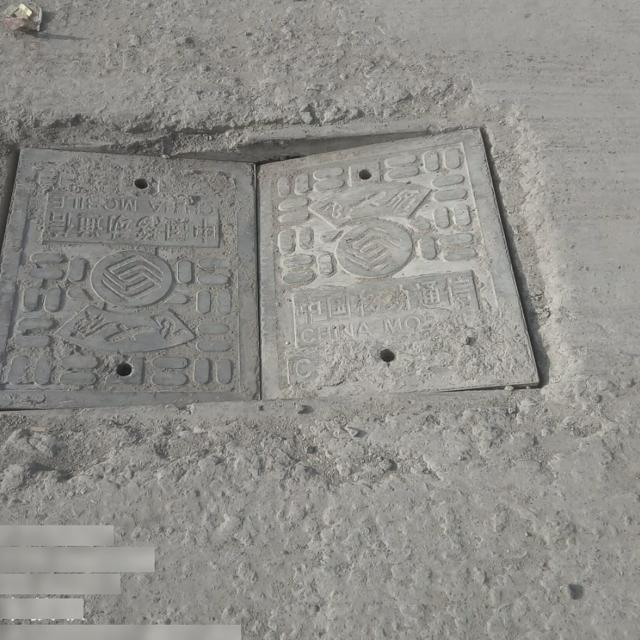uncovered: (0, 112, 564, 415)
